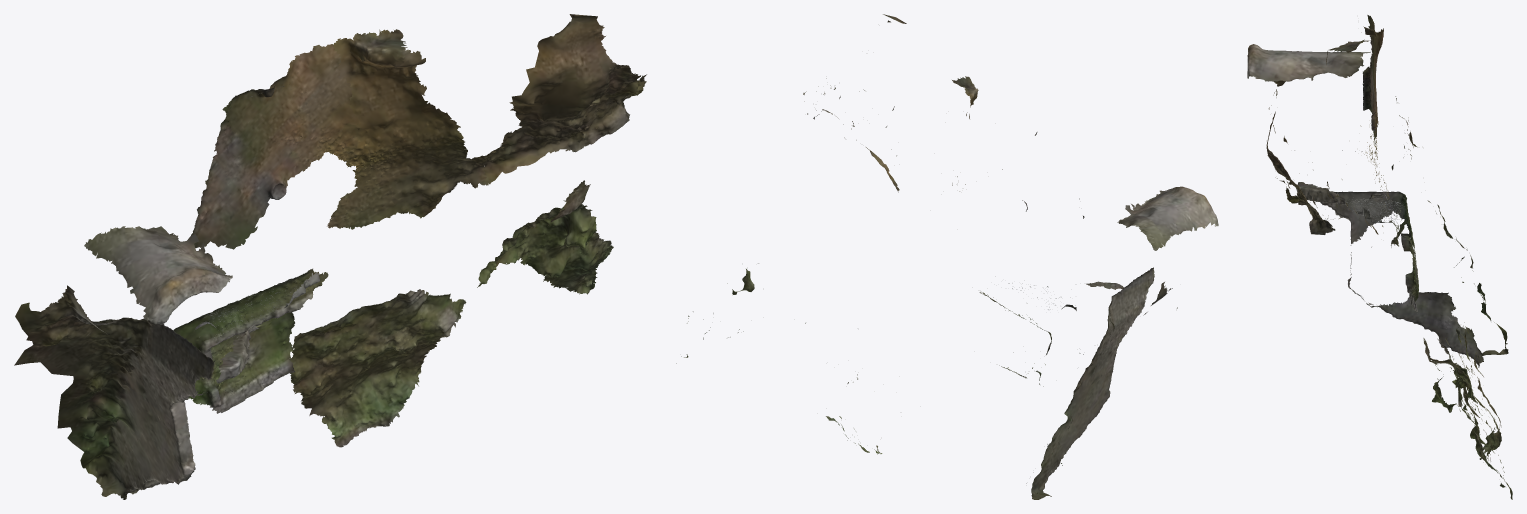
3 renders of one model, left to right at view 1: azimuth 30°, elevation 25°; view 2: azimuth 150°, elevation 25°; view 3: azimuth 270°, elevation 25°, orthographic. The views are drawn at different scales.
Bounding box in the file's own units: 35.21 × 26.39 × 15.08.
Materials: 1 (1 with a texture image).
